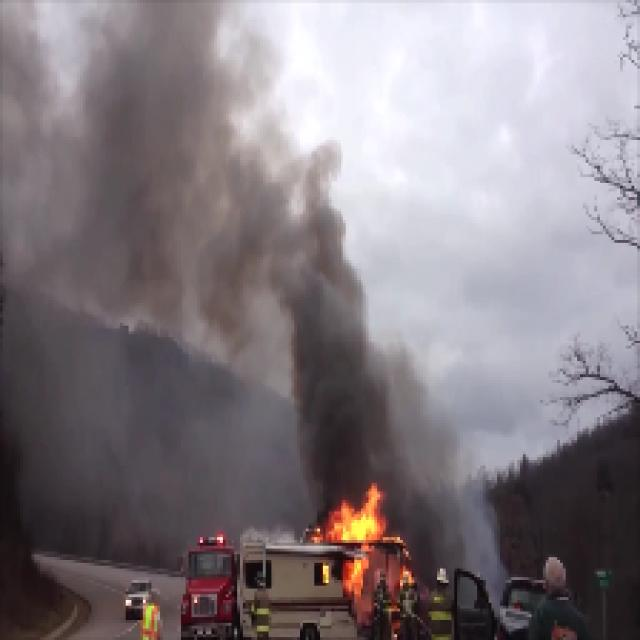fire: (327, 486, 388, 544)
smoke: (73, 123, 317, 287), (294, 309, 388, 481)
